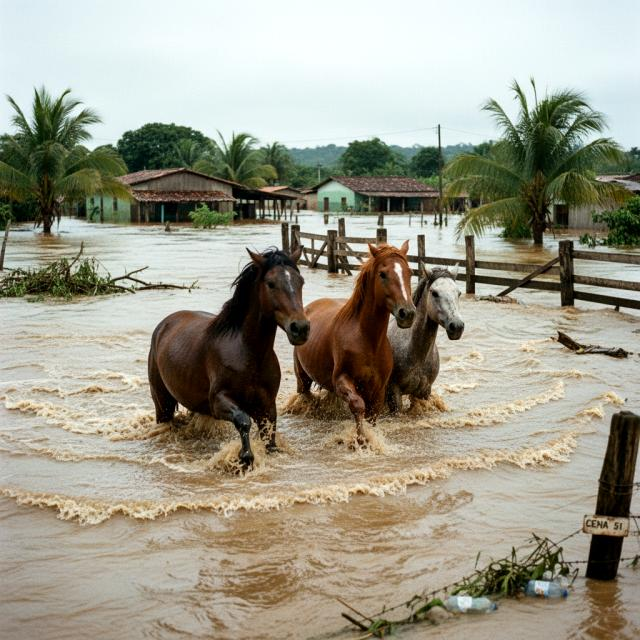horse: (147, 249, 307, 469), (295, 240, 418, 416), (368, 258, 470, 409)
